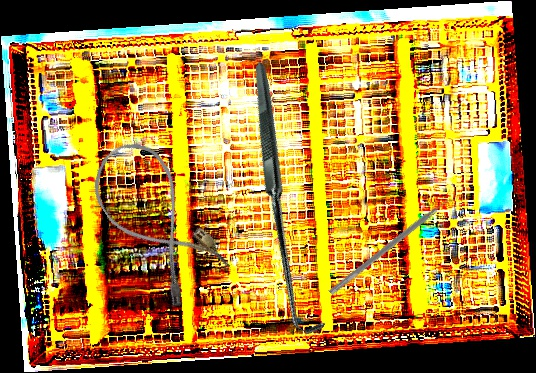Cannula: (77, 129, 236, 312)
Hook Surgical: (150, 61, 425, 340)
Spatula Surgical: (328, 192, 458, 301)
